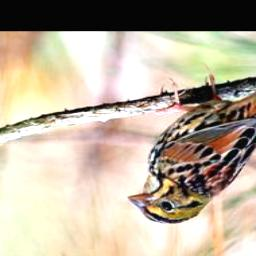Sparrow: (125, 47, 256, 226)
